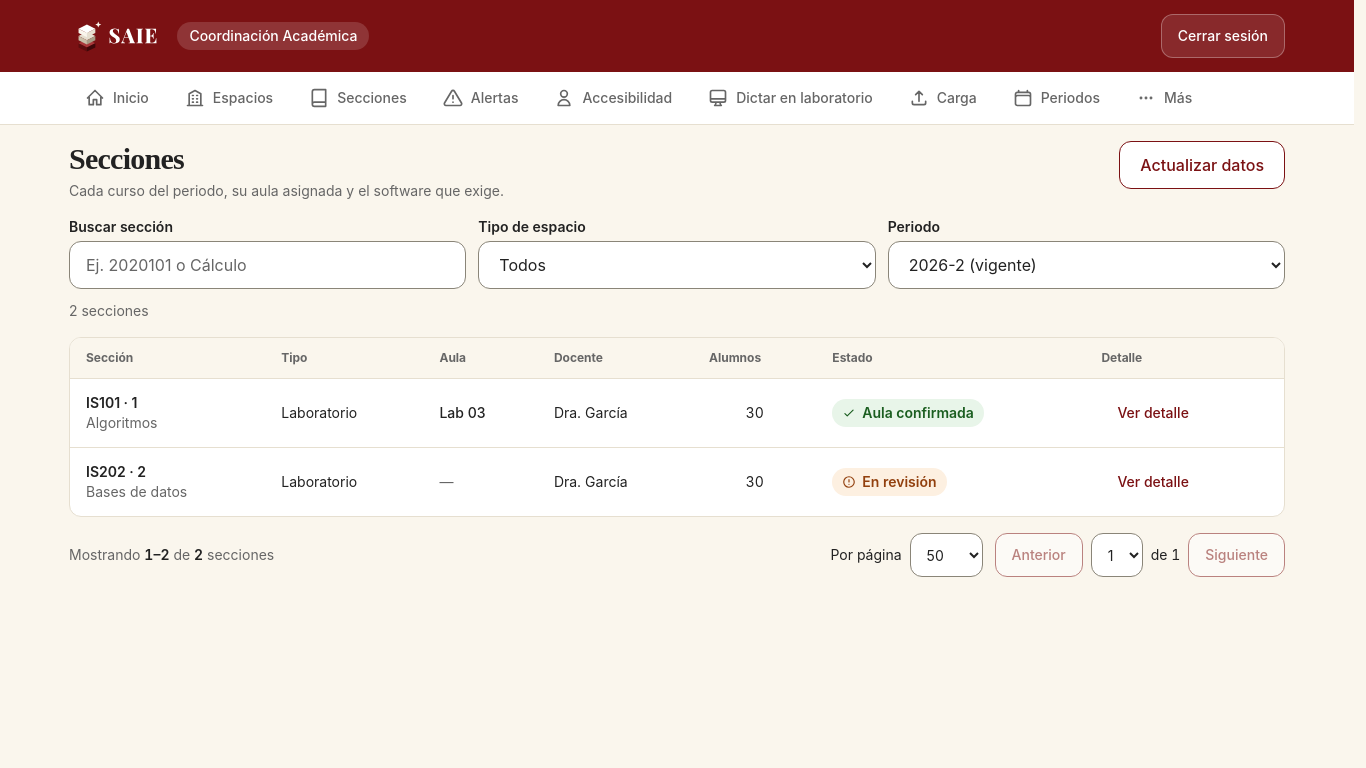
Test: Gestión individual de secciones (Issue 4.31) › filtra el software del catálogo por su nombre
Click the button named "Ver detalle de IS101 1".
click(1153, 413)  # box [1101,391,1205,435]
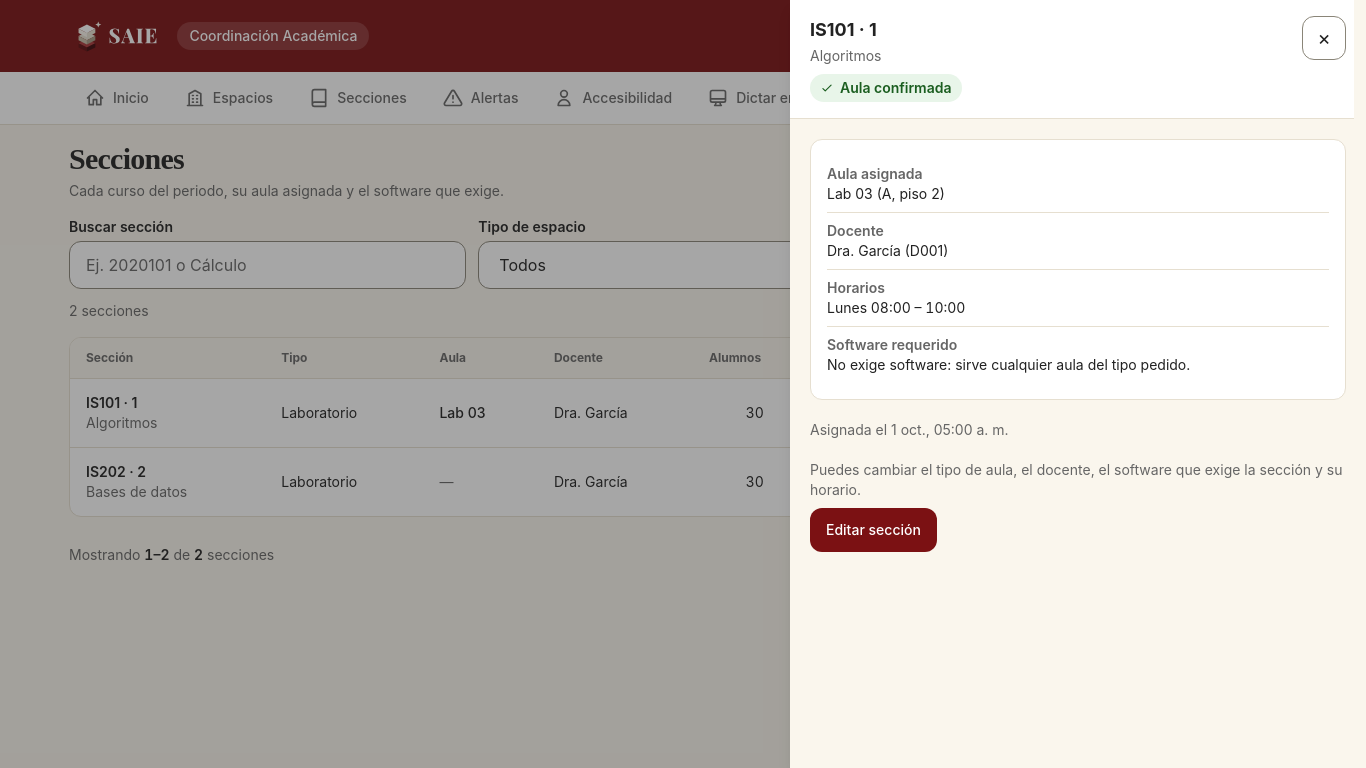
Click the button "Editar sección".
click(873, 530)  # box [810,508,937,552]
(page scrolled)
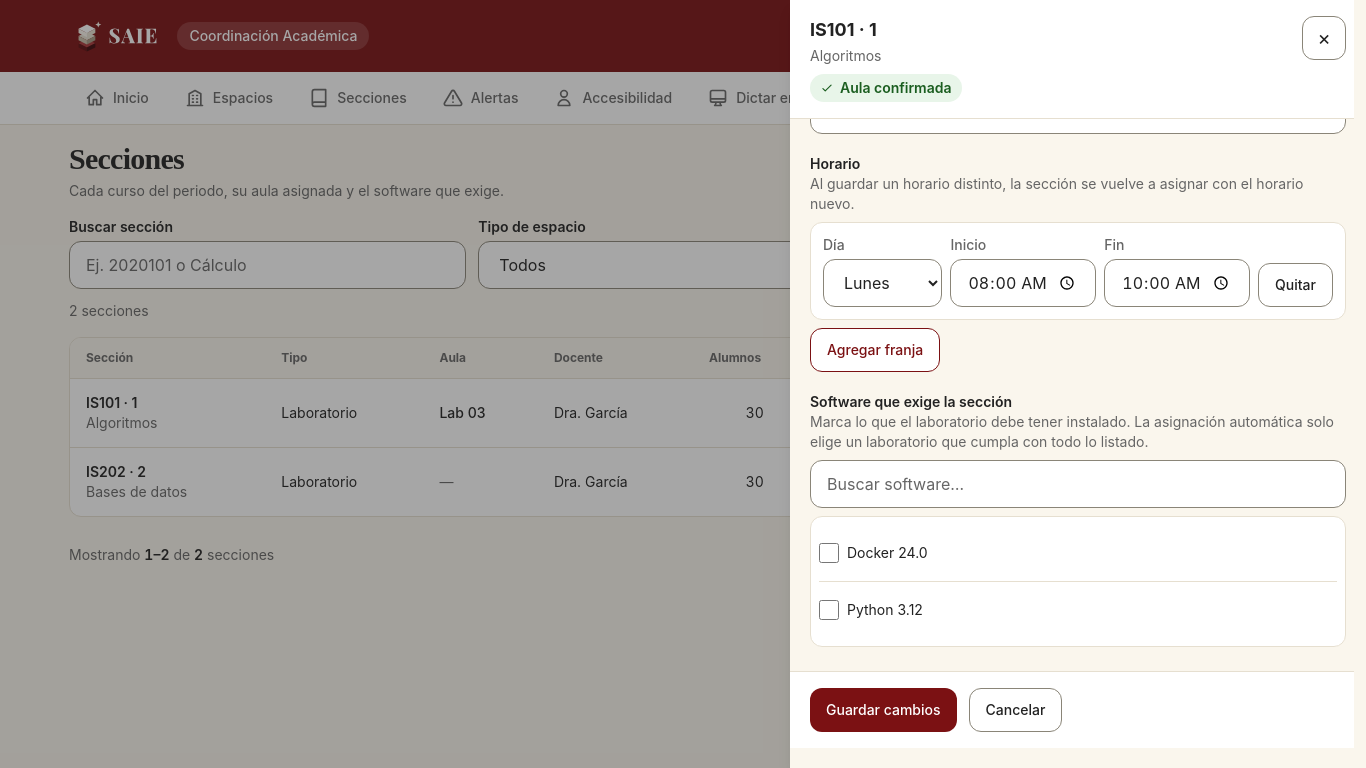
Expected: the checkbox labelled "Docker 24.0" is shown, [819,543,839,563]
Type "pyth" into the search field named "Buscar software del catálogo".
click(1078, 484); type("pyth")  # box [810,460,1346,508]
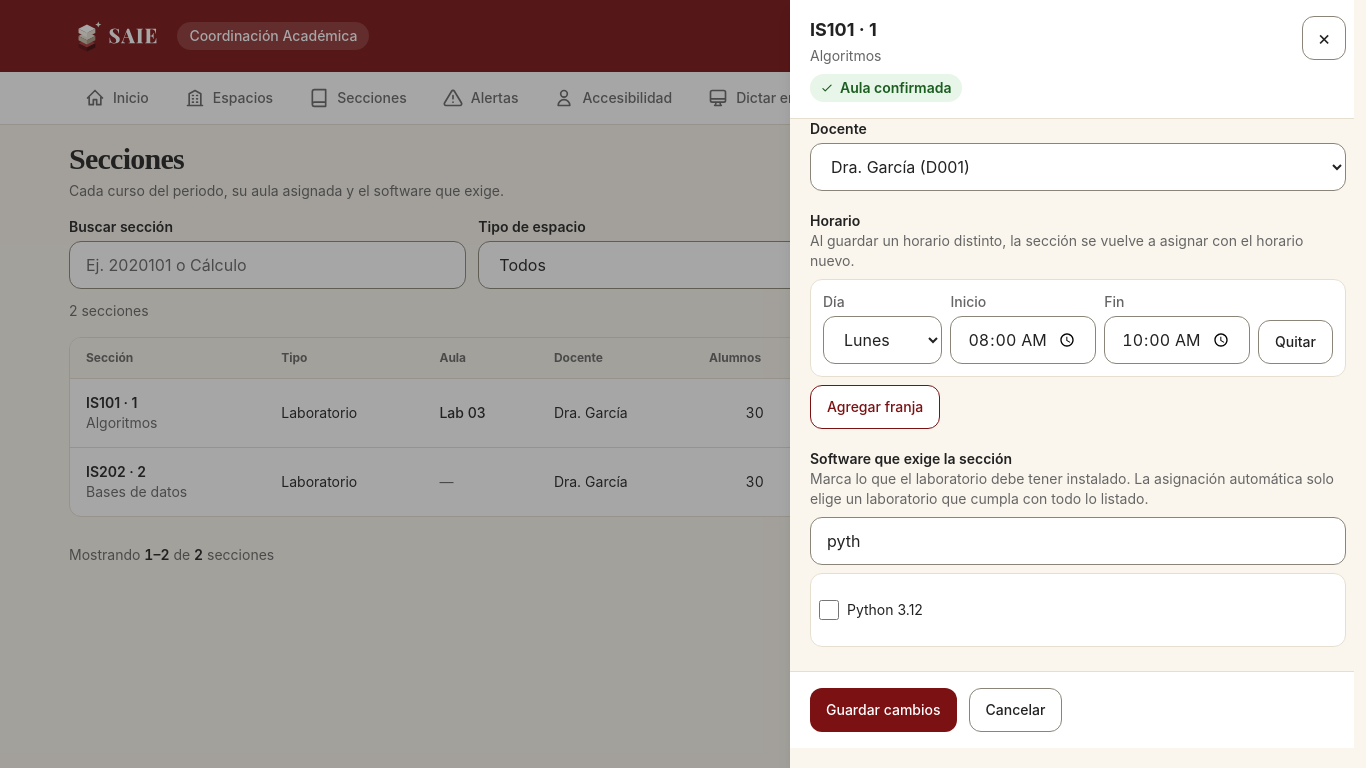
Expected: the checkbox labelled "Python 3.12" is shown, [819,600,839,620]
Expected: the text "Docker" is gone
